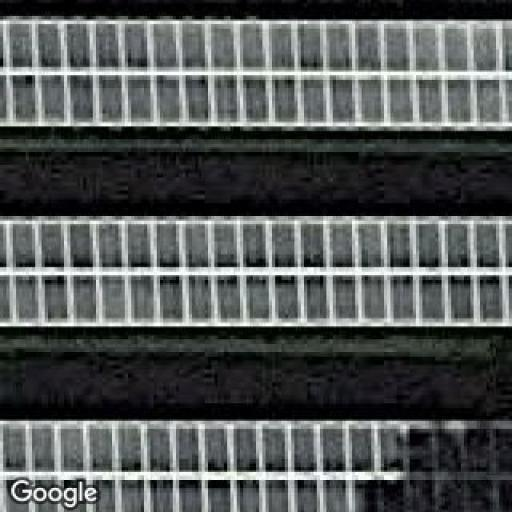solar-panel: (0, 20, 512, 138), (0, 216, 512, 326), (0, 421, 512, 512)
